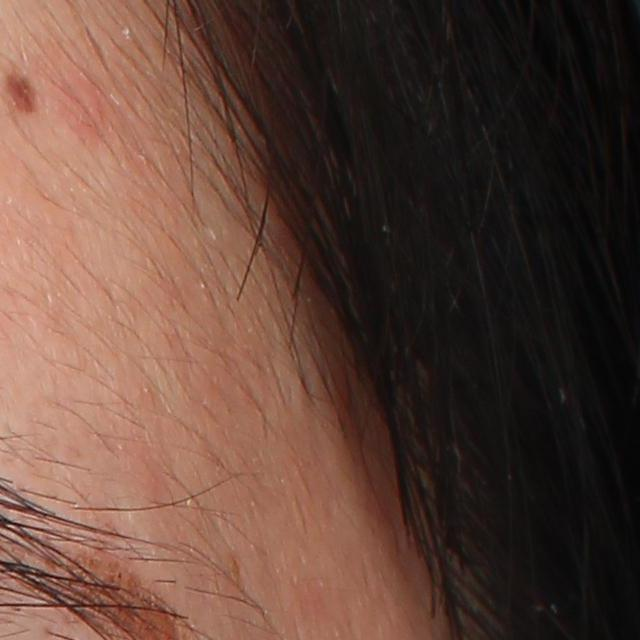nevus: (3, 69, 47, 116)
